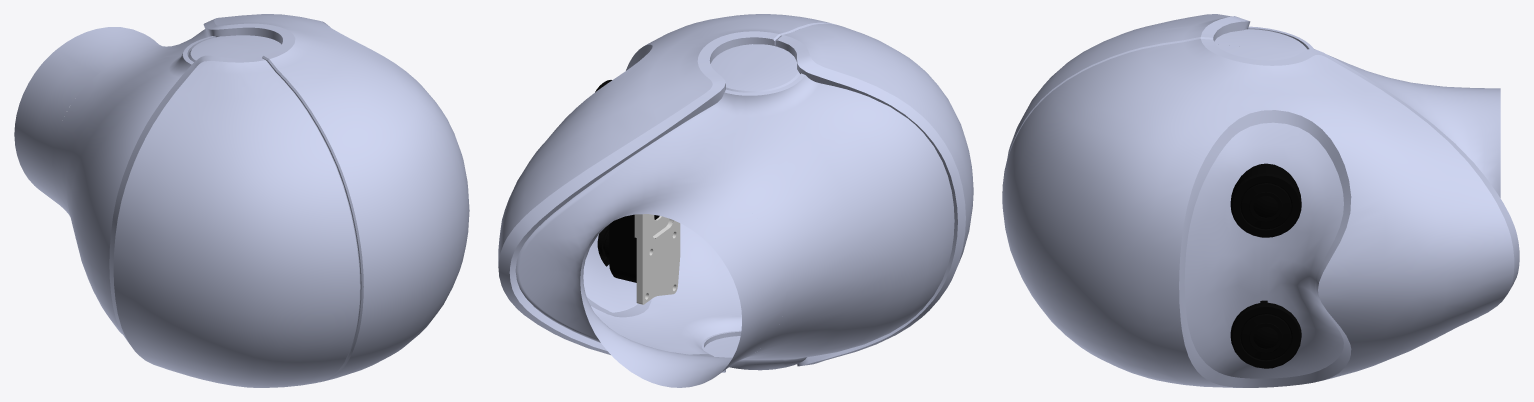
File: head_yaw_link.dae
3 renders of one model, left to right at view 1: azimuth 30°, elevation 25°; view 2: azimuth 150°, elevation 25°; view 3: azimuth 270°, elevation 25°, orthographic. The views are drawn at different scales.
Parts seen in each view (by area): view 1: shell_2; view 2: shell_2; view 3: shell_2.
Boxes of the visible parts, x1=… form: shell_2: x1=14, y1=14, x2=469, y2=387; shell_2: x1=498, y1=14, x2=973, y2=387; shell_2: x1=1002, y1=14, x2=1519, y2=387.
Bounding box in the file's own units: 0.1743 × 0.1468 × 0.2149.
